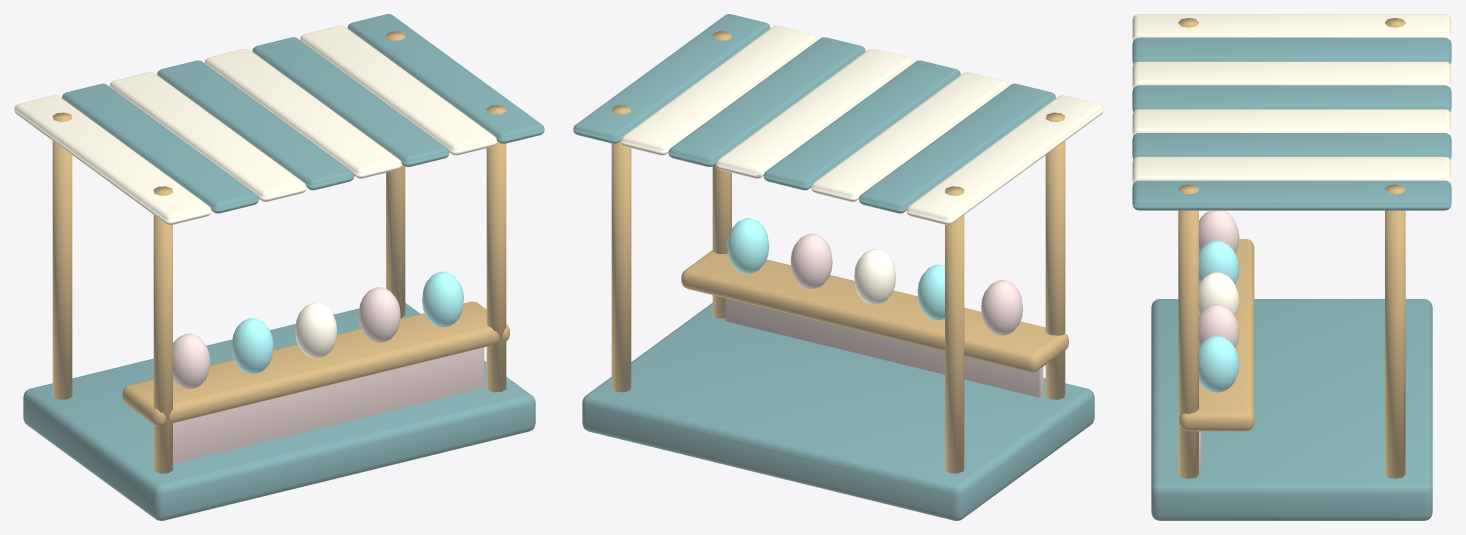
File: sky_stall.glb
3 renders of one model, left to right at view 1: azimuth 30°, elevation 25°; view 2: azimuth 150°, elevation 25°; view 3: azimuth 270°, elevation 25°, orthographic. The views are drawn at different scales.
Parts seen in each view (by area): view 1: sky_stall_surface; view 2: sky_stall_surface; view 3: sky_stall_surface.
Part boxes in pixels (x1=…): sky_stall_surface: x1=14, y1=14, x2=544, y2=520; sky_stall_surface: x1=573, y1=14, x2=1103, y2=520; sky_stall_surface: x1=1132, y1=14, x2=1451, y2=520.
Bounding box in the file's own units: 4.8 × 3.8 × 3.4.
